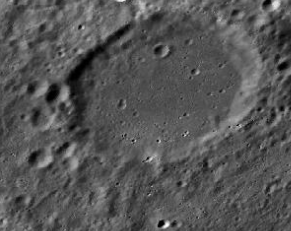crater: (144, 36, 176, 75), (146, 201, 174, 230)
